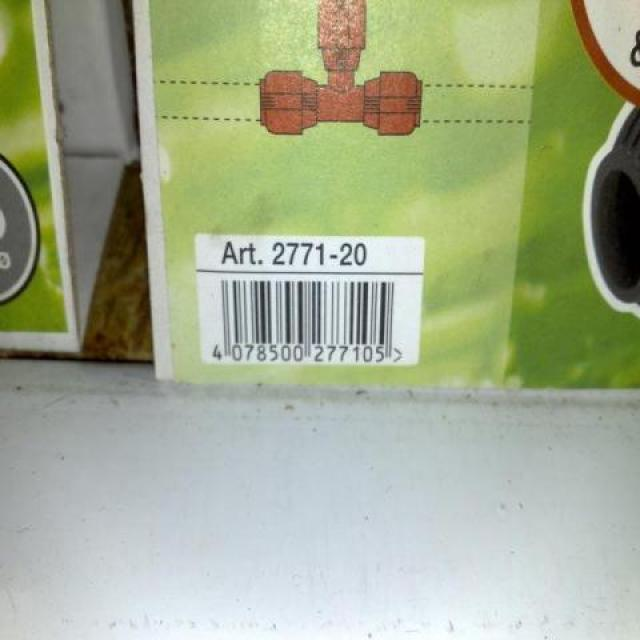Barcode: (195, 232, 424, 365)
